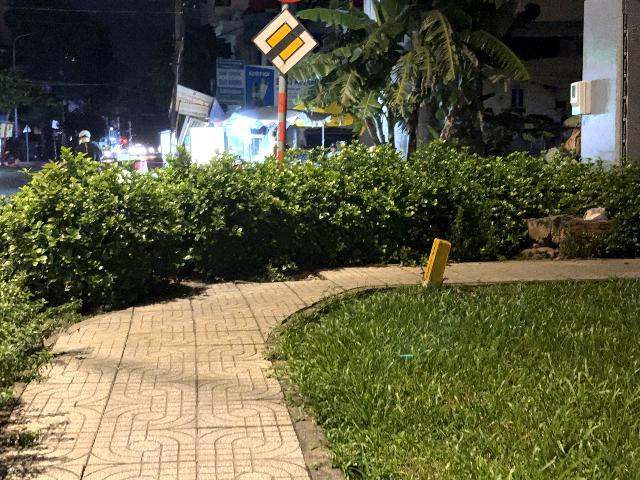het-duong-uu-tien: (252, 8, 319, 77)
